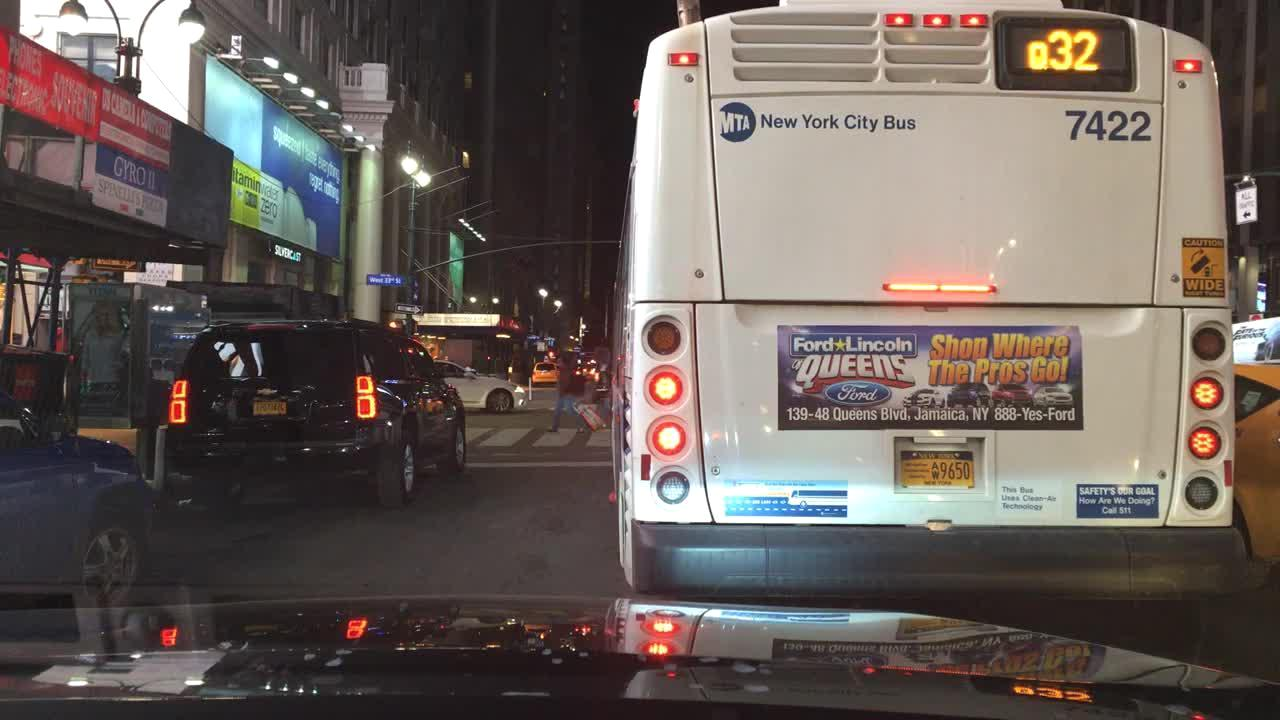chevrolet: (253, 380, 286, 400)
